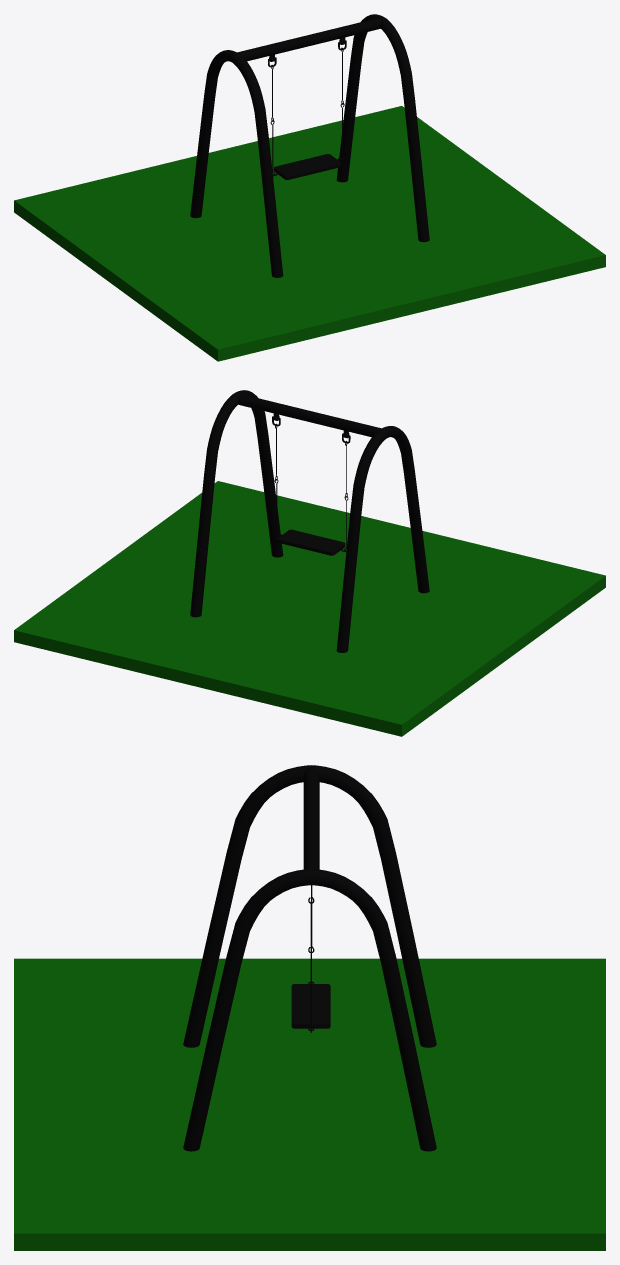
Rendered from Swing Jhoola fbx.FBX.
3 views of the same model, one above another, from view 1: azimuth 30°, elevation 25°; view 2: azimuth 150°, elevation 25°; view 3: azimuth 270°, elevation 25° (orthographic). The views are drawn at different scales.
Parts seen in each view (by area): view 1: floor, stand, base; view 2: floor, stand, base; view 3: floor, stand, base.
Part boxes in pixels (x1,y1,x2,y2): floor: (14, 106, 605, 361); stand: (190, 14, 429, 277); base: (273, 154, 342, 179); floor: (14, 481, 605, 736); stand: (190, 390, 429, 652); base: (276, 529, 346, 555); floor: (14, 958, 605, 1250); stand: (183, 765, 436, 1151); base: (291, 981, 330, 1030).
Bounding box in the file's own units: 140 × 70.46 × 128.
